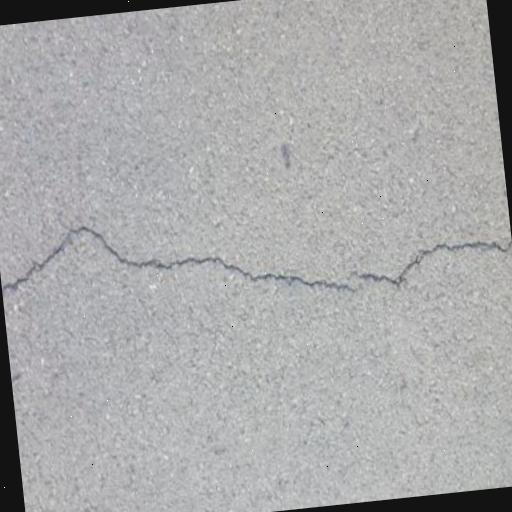spalling: (10, 207, 502, 311)
